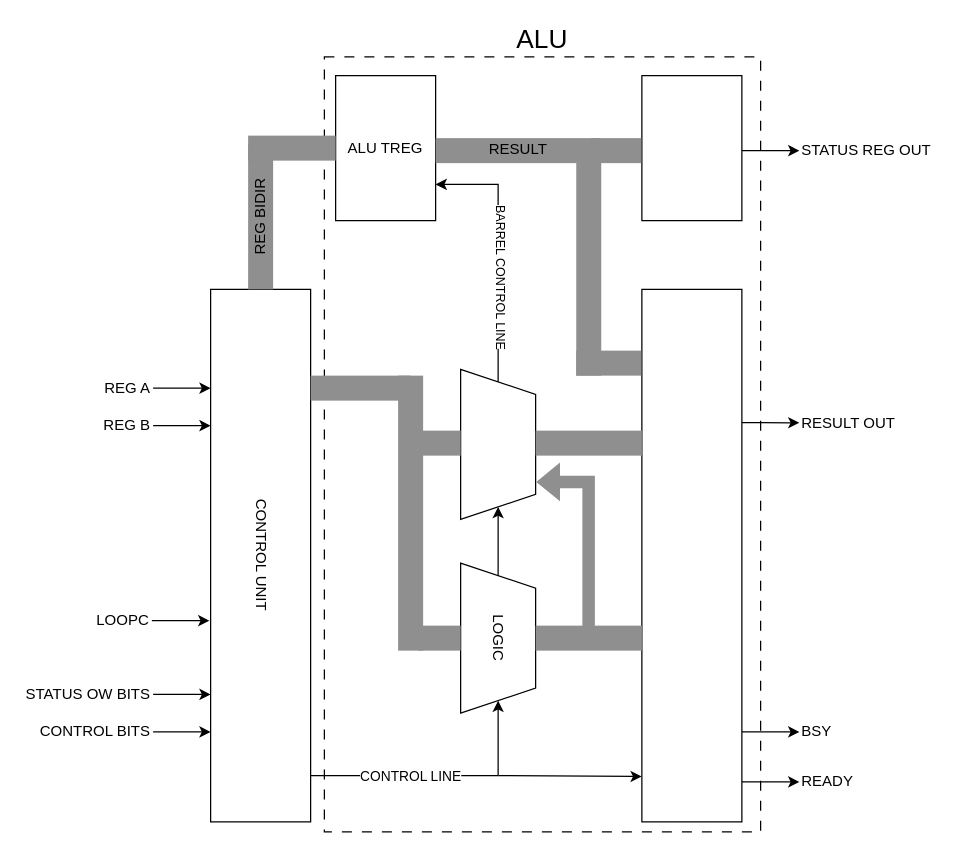
Some shapes in this 969 by 854 pixel diagram are drawn without their labels. Here are the shapes that lost their labels. From the top down, the box of each, then its label:
(641, 74, 742, 221): STATUS REG
(459, 368, 536, 519): ARITHMETIC & EXTENDED ARITHMETIC
(641, 288, 742, 822): ACCUMULATOR
